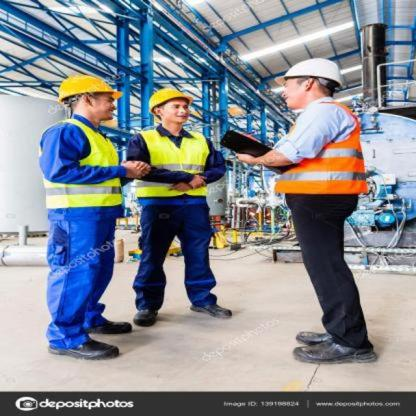bota: (45, 321, 119, 361), (291, 336, 377, 364), (131, 287, 164, 328), (187, 293, 234, 321), (87, 309, 131, 336), (295, 327, 335, 346)
capacete: (56, 72, 122, 124), (276, 56, 342, 108), (148, 86, 196, 127)
